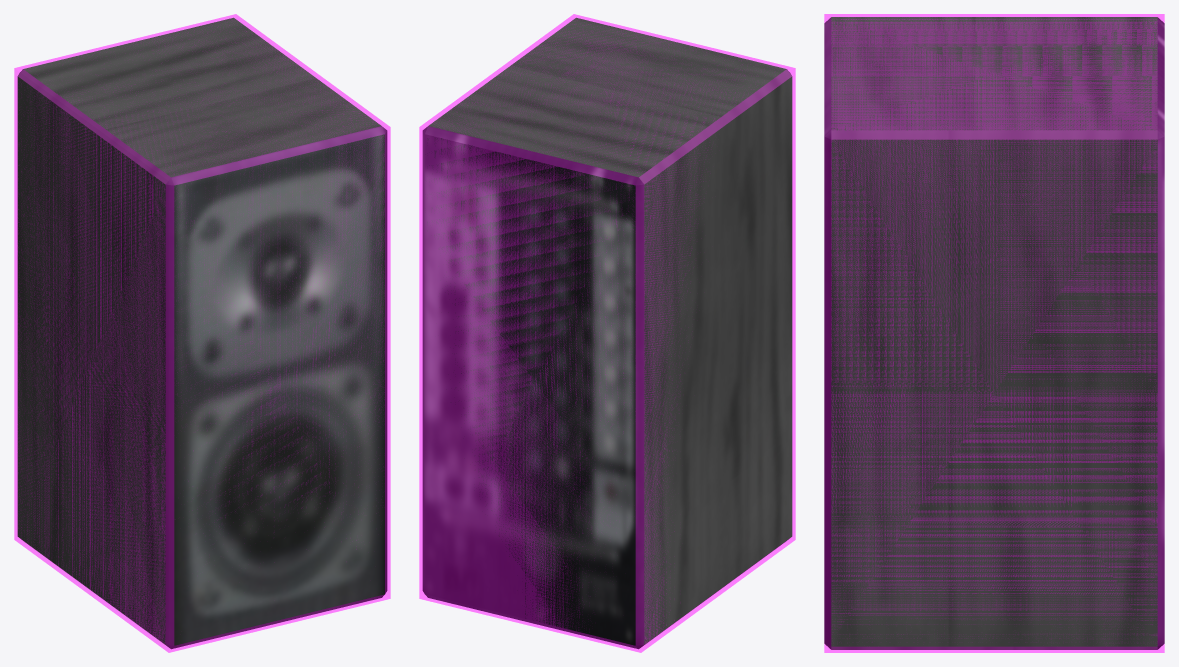
Rendered from speaker.fbx.
3 renders of one model, left to right at view 1: azimuth 30°, elevation 25°; view 2: azimuth 150°, elevation 25°; view 3: azimuth 270°, elevation 25°, orthographic. The views are drawn at different scales.
Parts seen in each view (by area): view 1: speaker, boundingbox; view 2: speaker, boundingbox; view 3: speaker, boundingbox.
Part boxes in pixels (x1,y1,x2,y2): speaker: [17, 17, 387, 649]; boundingbox: [14, 14, 390, 652]; speaker: [422, 17, 792, 649]; boundingbox: [419, 14, 795, 652]; speaker: [824, 17, 1164, 649]; boundingbox: [824, 14, 1164, 652].
Bounding box in the file's own units: 9.84 × 20 × 11.86.
4 materials, 3 textured.
